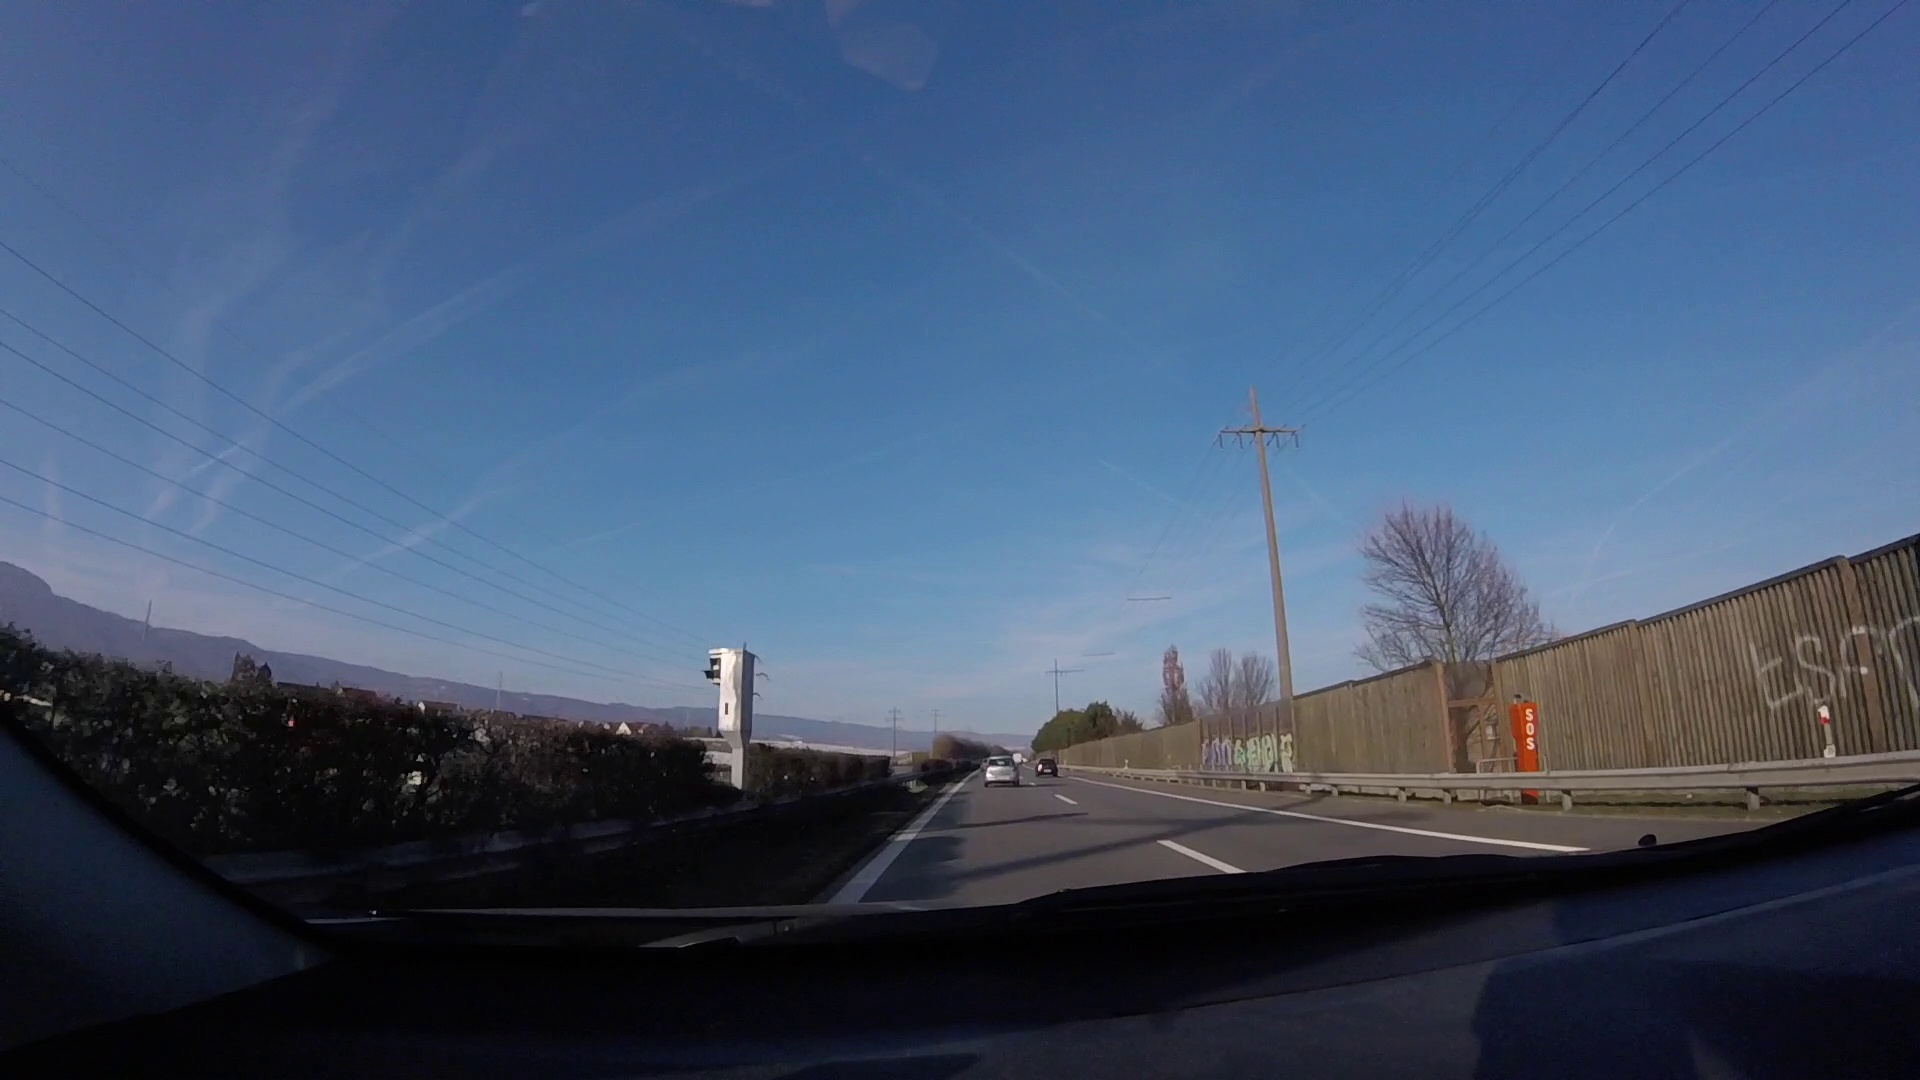radar: (702, 645, 758, 796)
